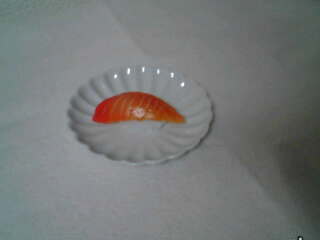002_classes: (93, 90, 192, 129)
